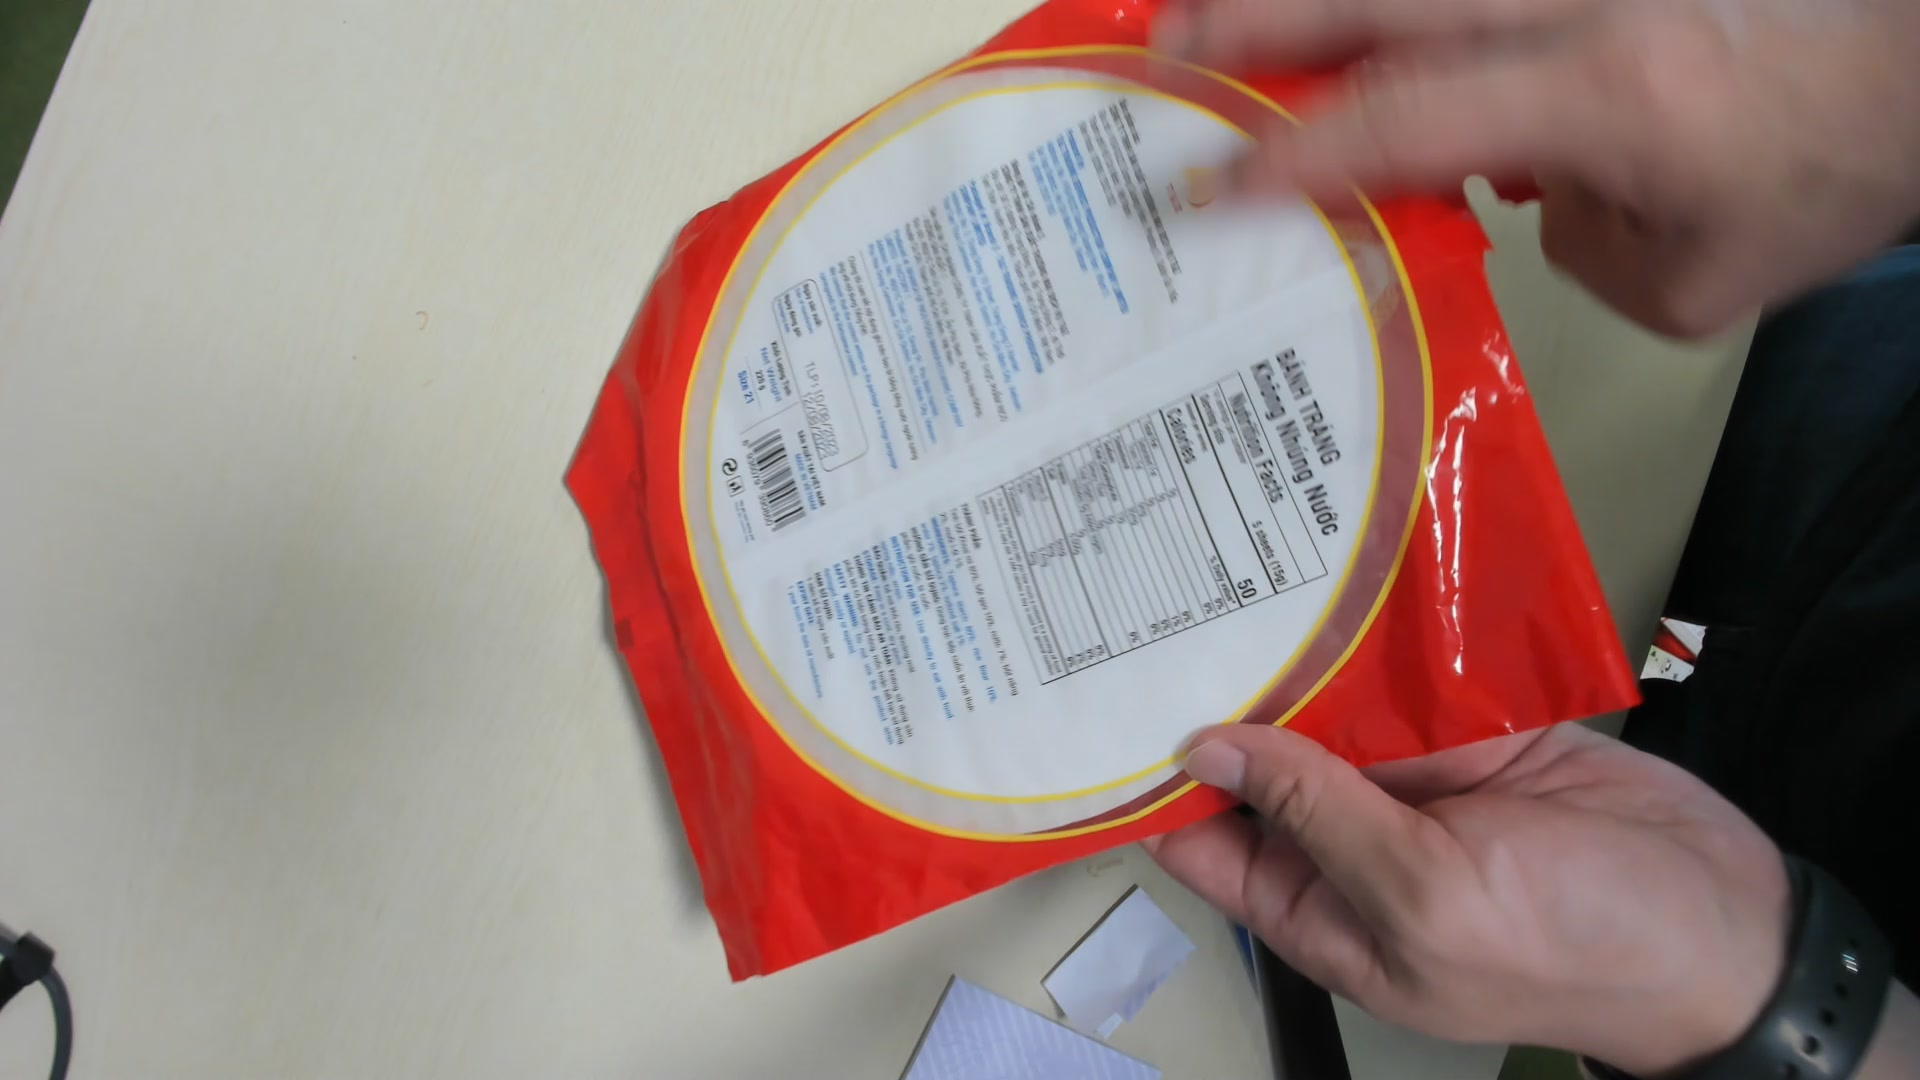InstantMeals_200_299g_NonHalal_NonHealthy: (568, 1, 1640, 996)
